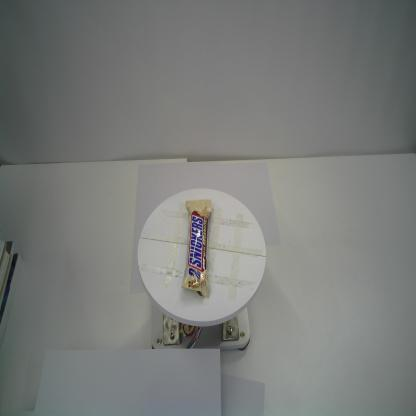Chocolate: (181, 197, 214, 302)
